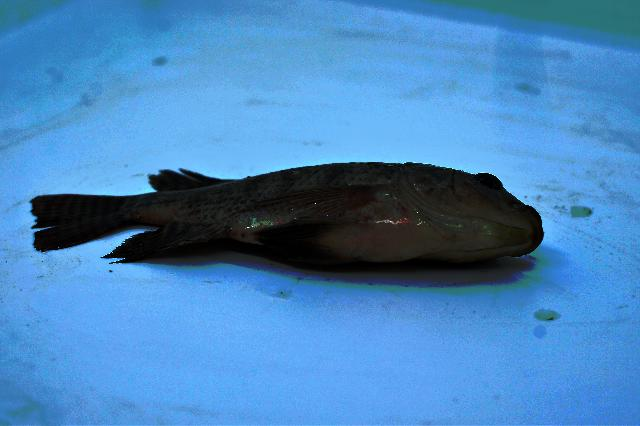Columnaris Disease: (32, 163, 543, 265)
